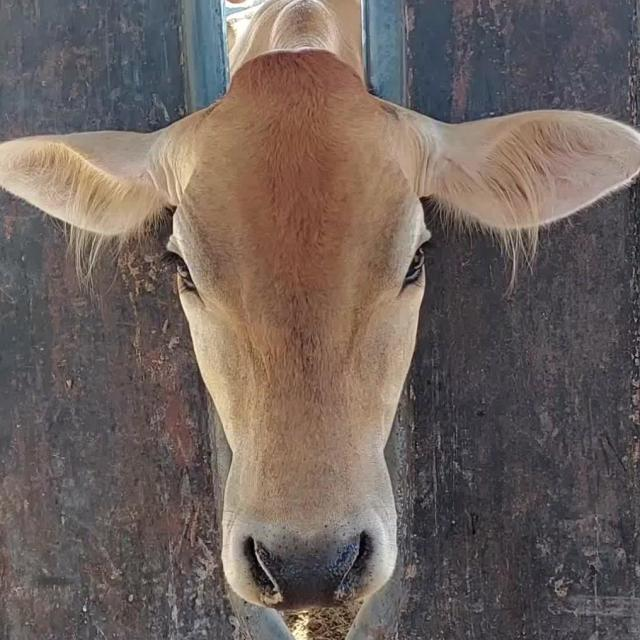cowFace: (166, 50, 434, 610)
